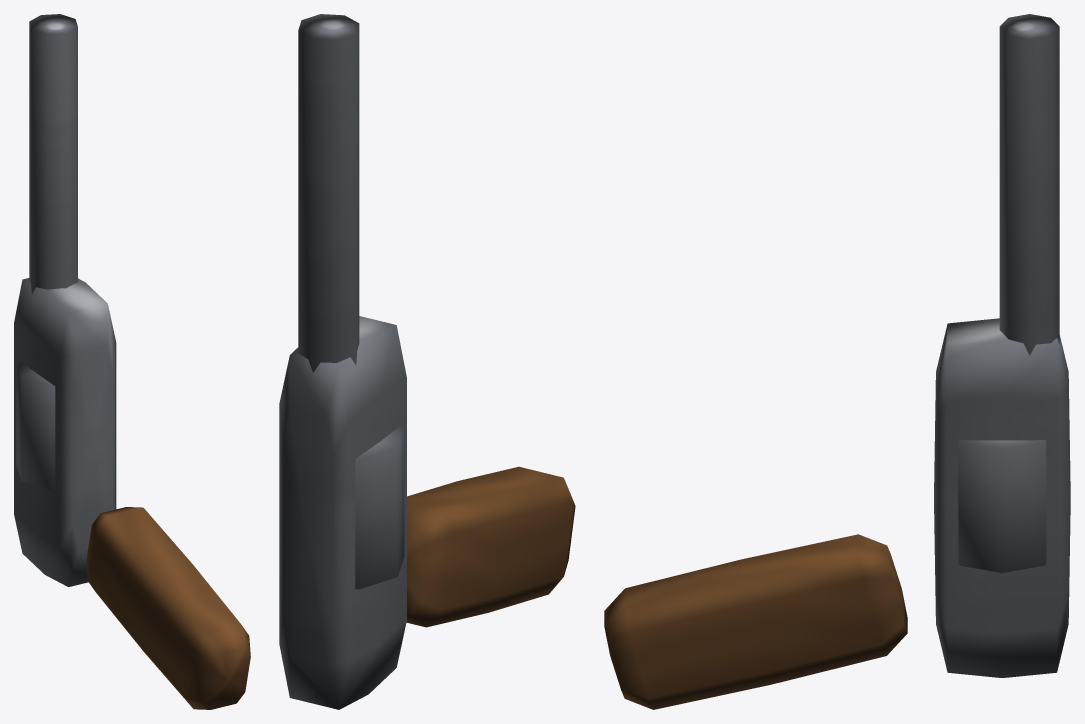
The model's file is revolver.glb.
3 renders of one model, left to right at view 1: azimuth 30°, elevation 25°; view 2: azimuth 150°, elevation 25°; view 3: azimuth 270°, elevation 25°, orthographic. The views are drawn at different scales.
Parts seen in each view (by area): view 1: revolver; view 2: revolver; view 3: revolver.
Boxes of the visible parts, x1=… form: revolver: x1=14, y1=14, x2=250, y2=709; revolver: x1=279, y1=14, x2=575, y2=709; revolver: x1=604, y1=14, x2=1070, y2=709.
Bounding box in the file's own units: 0.044 × 0.2712 × 0.1704.
1 material, 1 textured.
